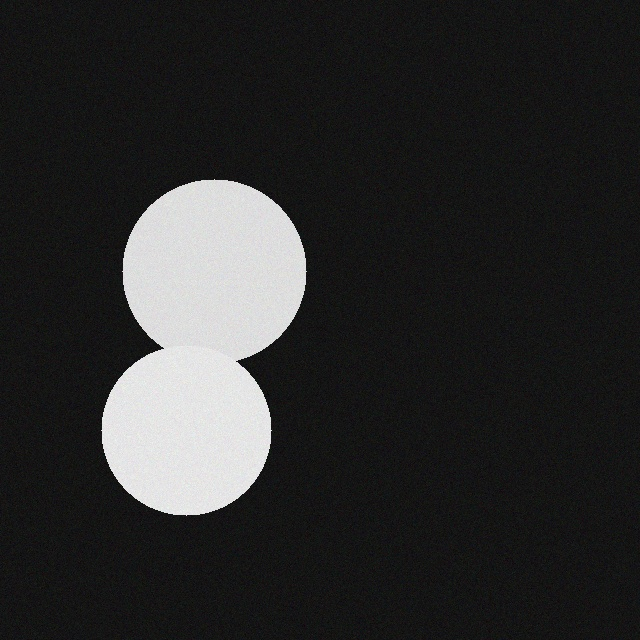circle: (116, 182, 300, 366), (95, 348, 265, 518)
